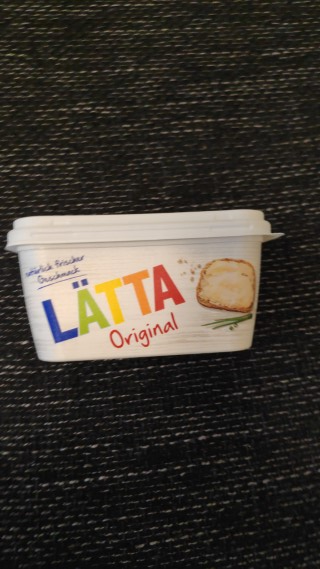laetta: (4, 206, 285, 364)
